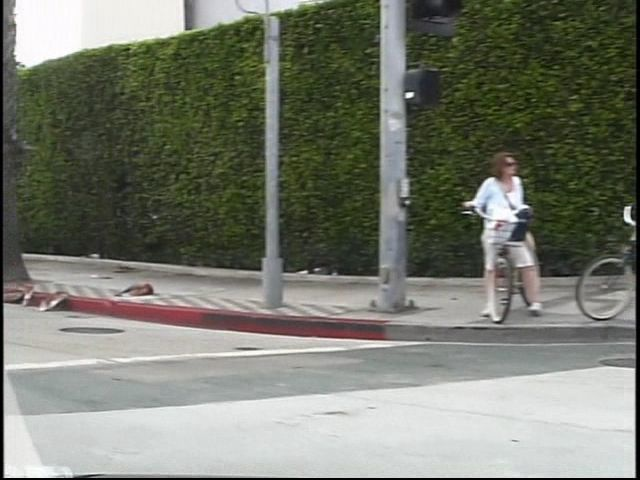person: (458, 151, 528, 326)
